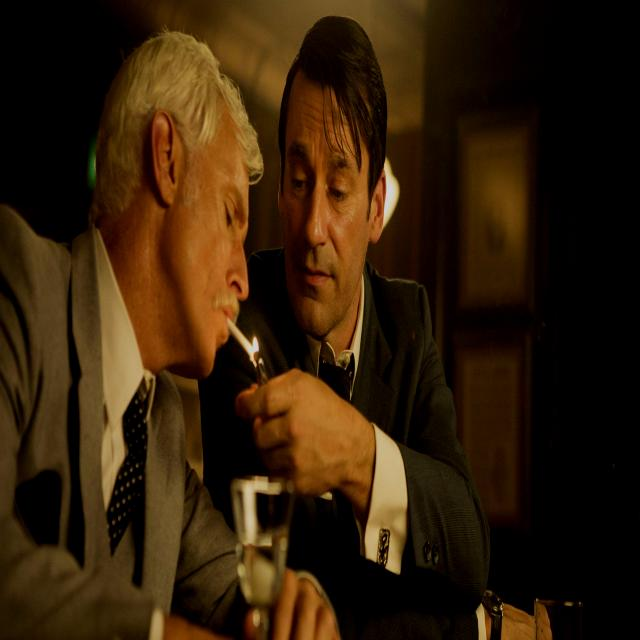smoke: (214, 298, 275, 388)
